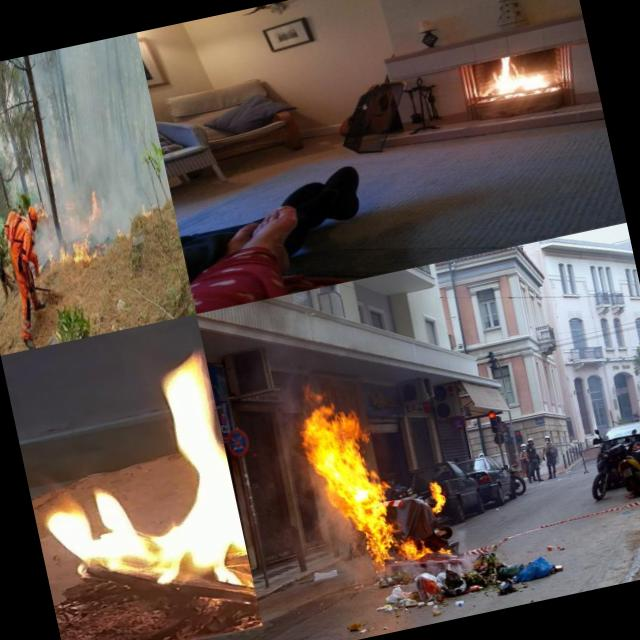fire: (6, 339, 266, 640), (322, 388, 396, 574), (293, 376, 343, 502), (479, 50, 556, 103), (44, 230, 92, 274), (392, 530, 433, 566), (80, 185, 106, 227), (422, 478, 448, 518), (137, 194, 164, 220), (432, 540, 461, 563), (114, 218, 134, 242)
smoke: (21, 32, 165, 192), (253, 372, 336, 588), (226, 448, 292, 572), (234, 294, 306, 379), (320, 497, 360, 587), (97, 175, 143, 238), (49, 186, 88, 237), (84, 221, 120, 257)
